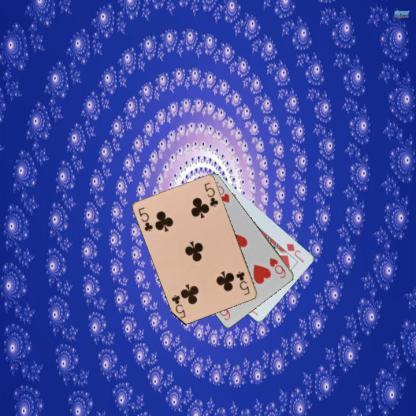5c: (136, 204, 154, 233), (233, 269, 252, 296)
6h: (267, 255, 287, 280)
Jd: (284, 241, 306, 263)
